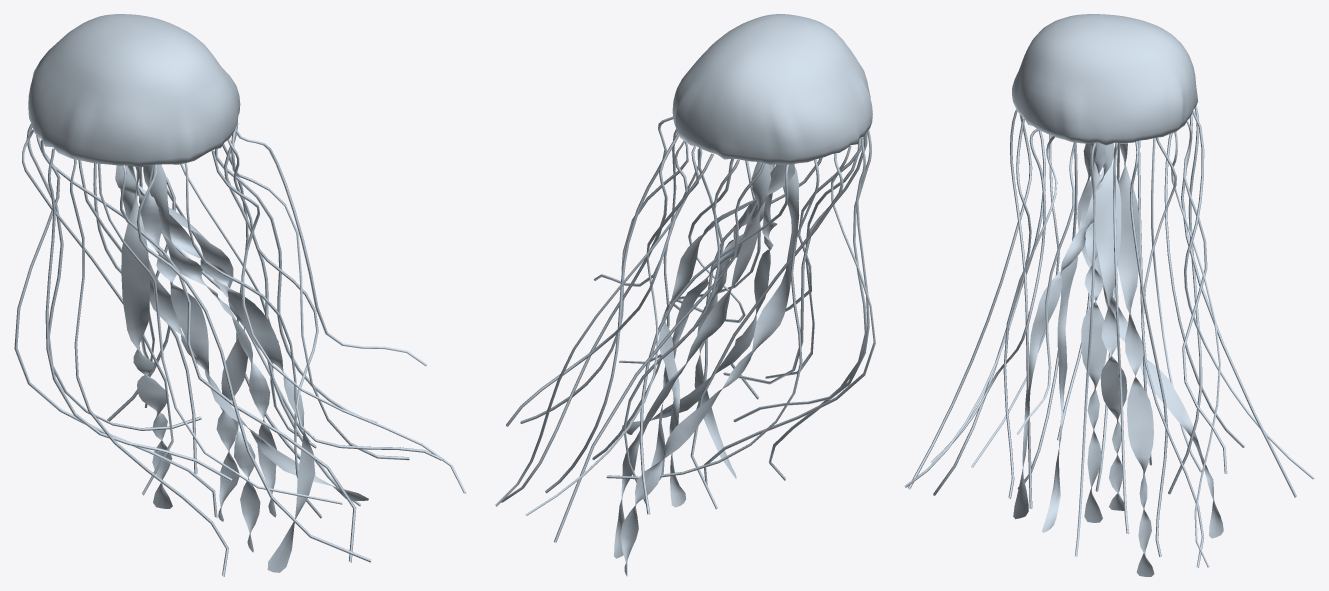
The model's file is jellyfish.glb.
3 renders of one model, left to right at view 1: azimuth 30°, elevation 25°; view 2: azimuth 150°, elevation 25°; view 3: azimuth 270°, elevation 25°, orthographic. The views are drawn at different scales.
Parts seen in each view (by area): view 1: Circle.000; view 2: Circle.000; view 3: Circle.000.
Boxes of the visible parts, x1=… form: Circle.000: x1=14, y1=14, x2=465, y2=576; Circle.000: x1=495, y1=14, x2=875, y2=576; Circle.000: x1=904, y1=14, x2=1314, y2=576.
Bounding box in the file's own units: 0.6964 × 1.03 × 0.7756.
